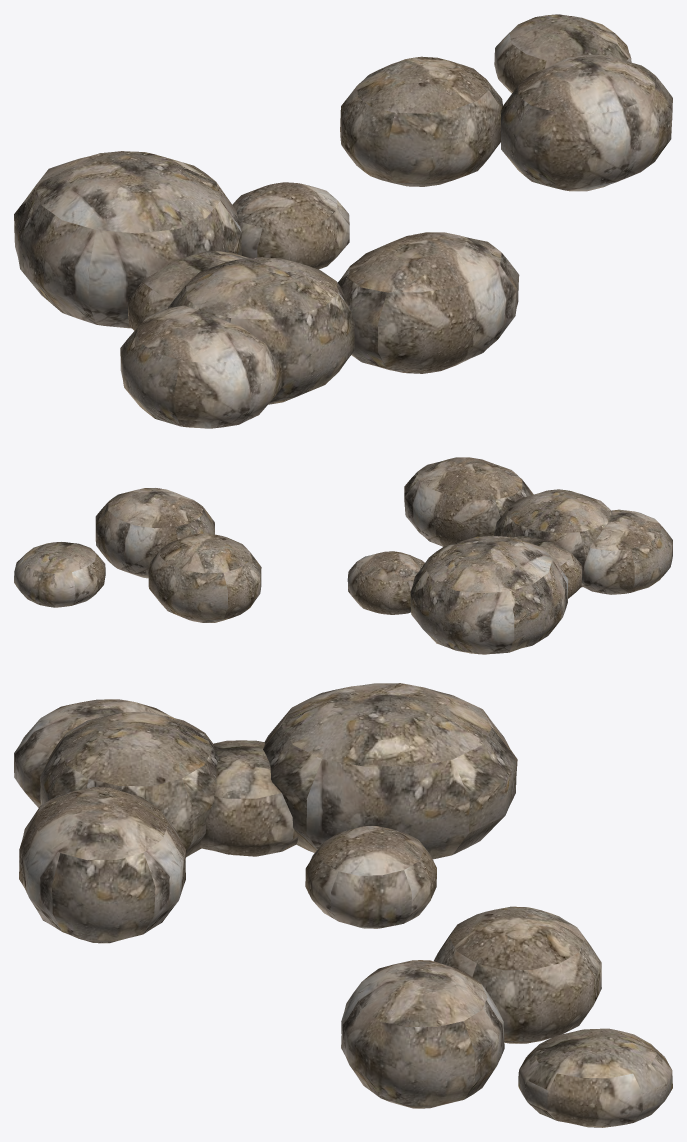
File: p_stones.glb
3 renders of one model, top to bottom at view 1: azimuth 30°, elevation 25°; view 2: azimuth 150°, elevation 25°; view 3: azimuth 270°, elevation 25°, orthographic. The views are drawn at different scales.
Visible parts, largest first — view 1: stones; view 2: stones; view 3: stones.
Part boxes in pixels (box(x1,y1,x2,y2)): stones: box(14, 14, 672, 428); stones: box(14, 457, 672, 654); stones: box(14, 683, 672, 1127).
Bounding box in the file's own units: 2.95 × 0.579 × 2.21.
Materials: 1 (1 with a texture image).
